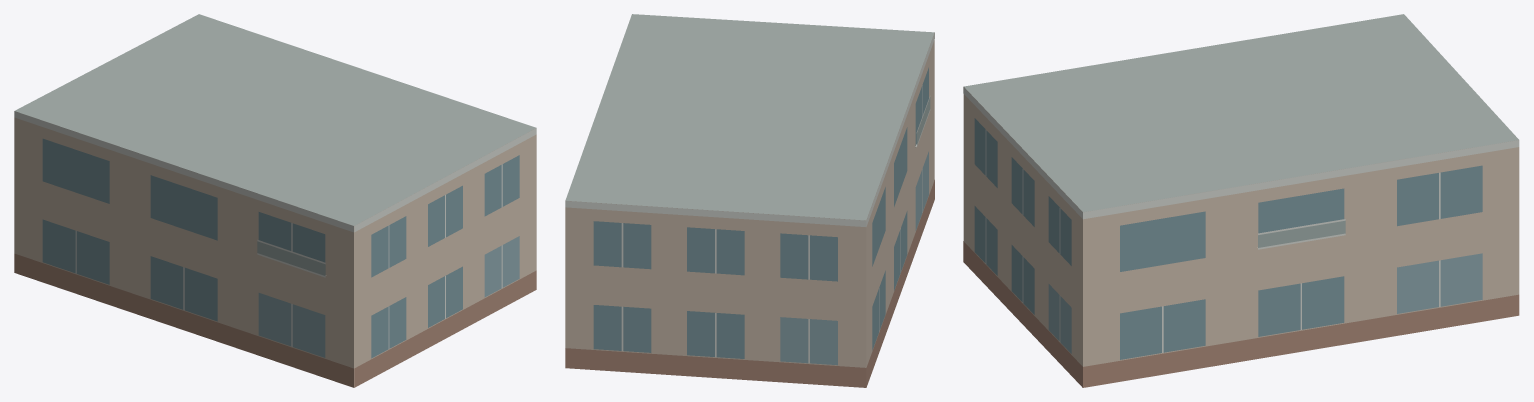
File: survey-upis-32890224.glb
3 views of the same model, side by side, from view 1: azimuth 30°, elevation 25°; view 2: azimuth 150°, elevation 25°; view 3: azimuth 270°, elevation 25° (orthographic). The views are drawn at different scales.
Parts seen in each view (by area): view 1: survey-upis-32890224.tmp; view 2: survey-upis-32890224.tmp; view 3: survey-upis-32890224.tmp.
Boxes of the visible parts, left/top/right/bottom form: survey-upis-32890224.tmp: left=14, top=14, right=536, bottom=387; survey-upis-32890224.tmp: left=565, top=14, right=934, bottom=387; survey-upis-32890224.tmp: left=963, top=14, right=1519, bottom=387.
Size of the model in its own units: 14.78 by 6.1 by 17.51.
